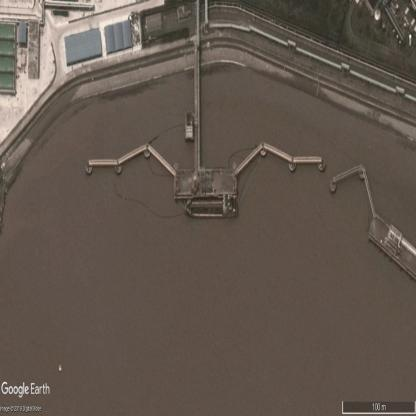ship: (184, 197, 238, 218)
